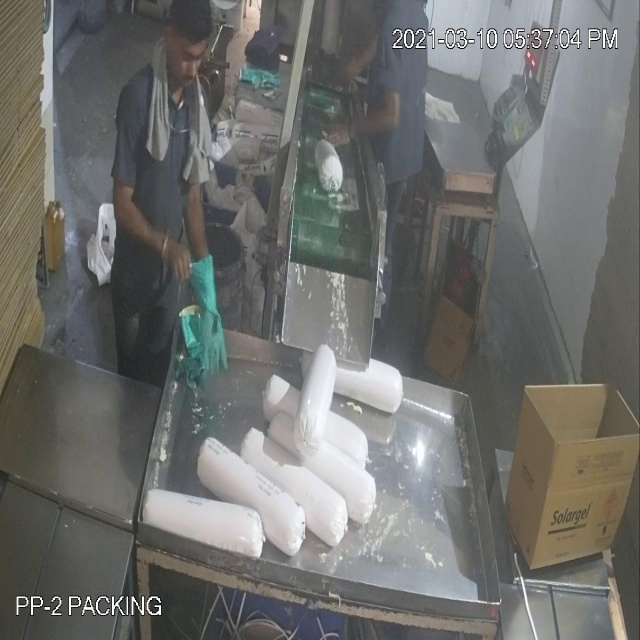Guantes: (183, 247, 236, 381)
Sin_guantes: (104, 178, 192, 284), (321, 92, 406, 166)
